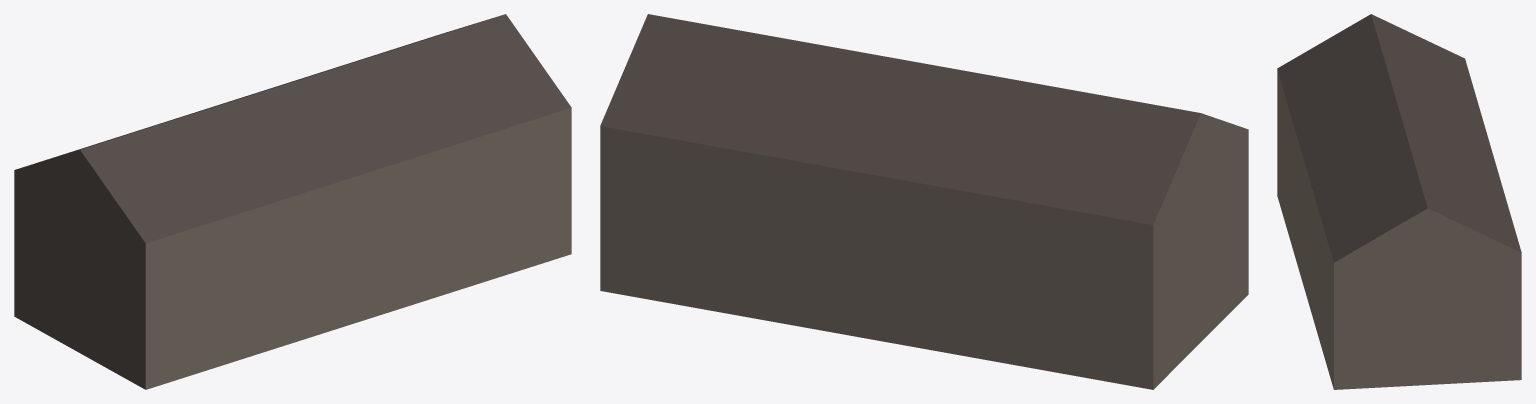
3 renders of one model, left to right at view 1: azimuth 30°, elevation 25°; view 2: azimuth 150°, elevation 25°; view 3: azimuth 270°, elevation 25°, orthographic. The views are drawn at different scales.
Visible parts, largest first — view 1: HP-w449041502; view 2: HP-w449041502; view 3: HP-w449041502.
Part boxes in pixels (x1,y1,x2,y2): HP-w449041502: [14, 14, 571, 389]; HP-w449041502: [600, 14, 1248, 389]; HP-w449041502: [1277, 14, 1521, 389].
Bounding box in the file's own units: 31.01 × 12.51 × 15.69.
